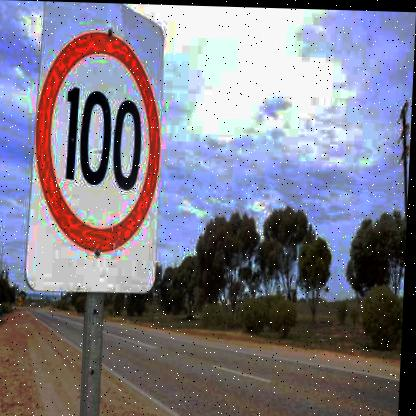Speed Limit -100-: (28, 29, 169, 261)
